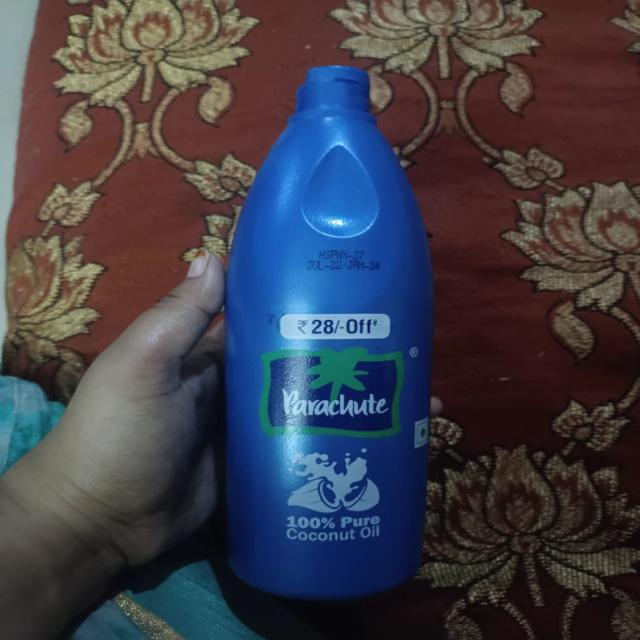parachute_oil: (206, 59, 437, 596)
